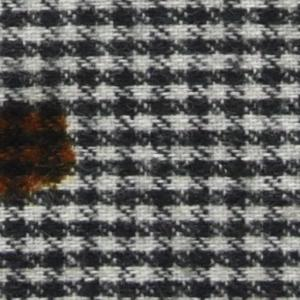Oil Stain: (1, 95, 82, 212)
